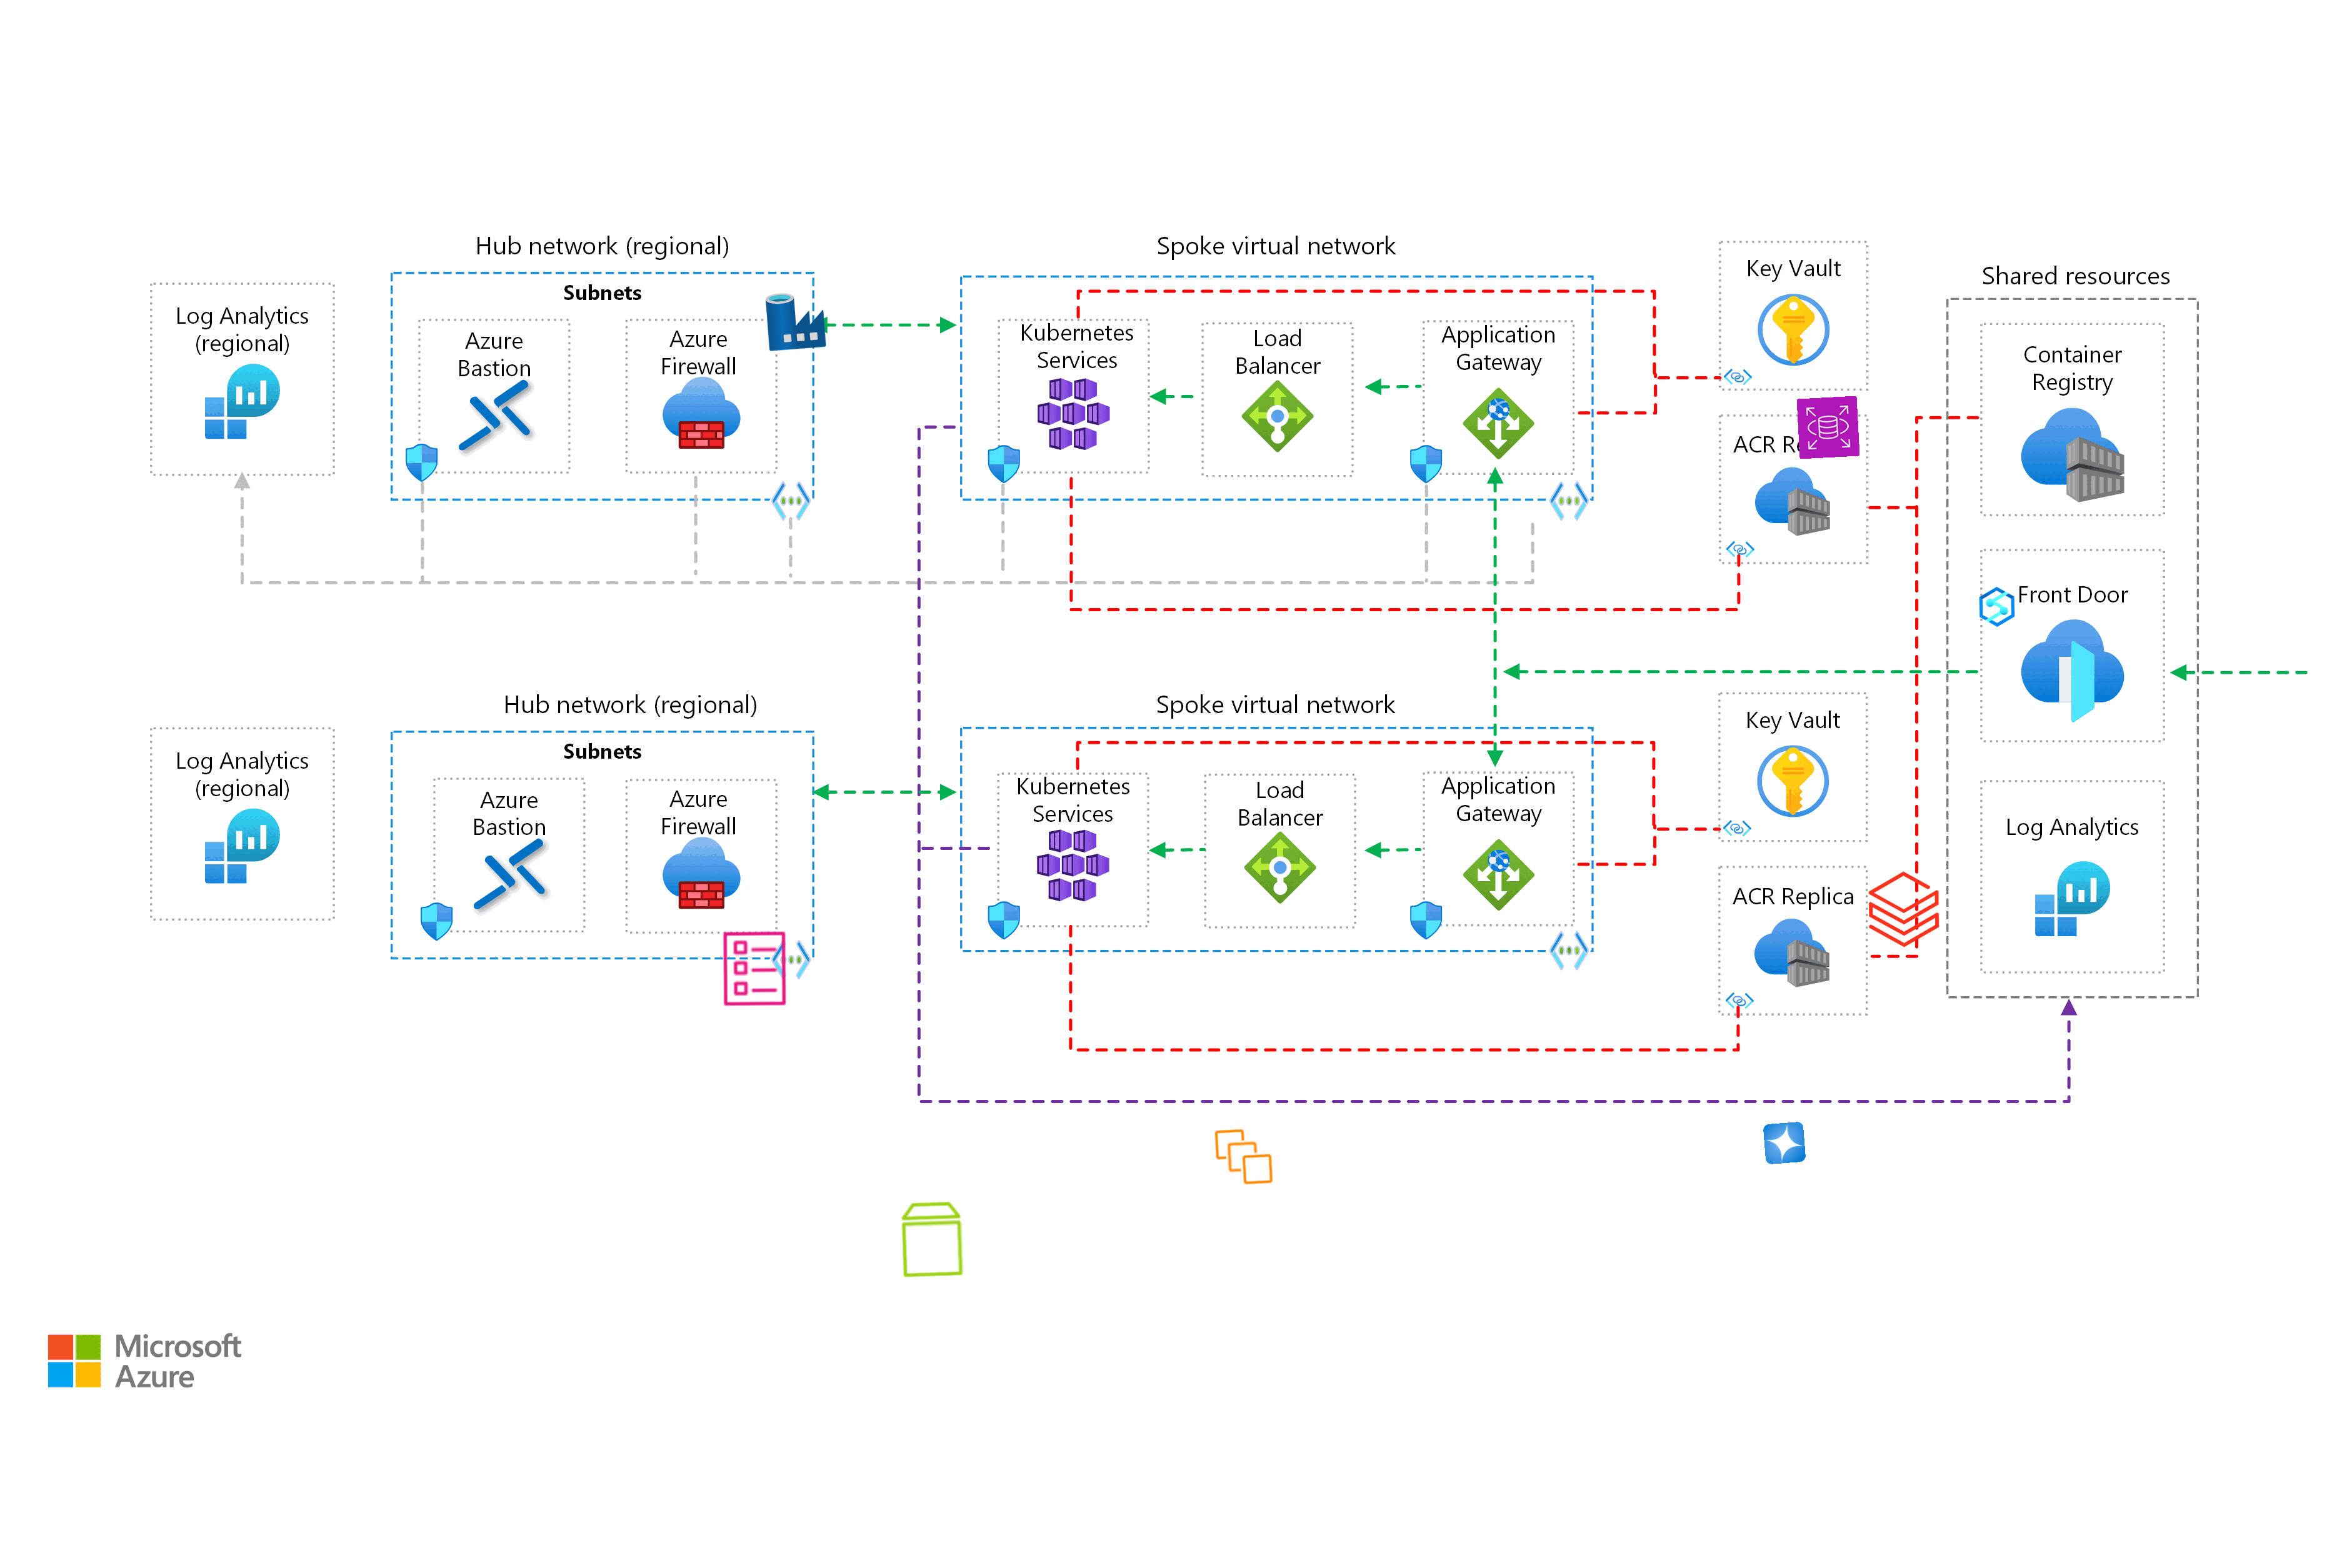aws_amazon_rds: (1795, 395, 1860, 458)
aws_cloudformation_template: (714, 927, 794, 1010)
aws_ec2_instances: (1213, 1125, 1276, 1188)
aws_elastic_block_store_volume: (891, 1197, 975, 1281)
azure_data_factories: (763, 289, 828, 353)
azure_databricks: (1864, 868, 1944, 950)
azure_openai: (1762, 1122, 1806, 1165)
azure_synapse_analytics: (1976, 586, 2018, 628)
